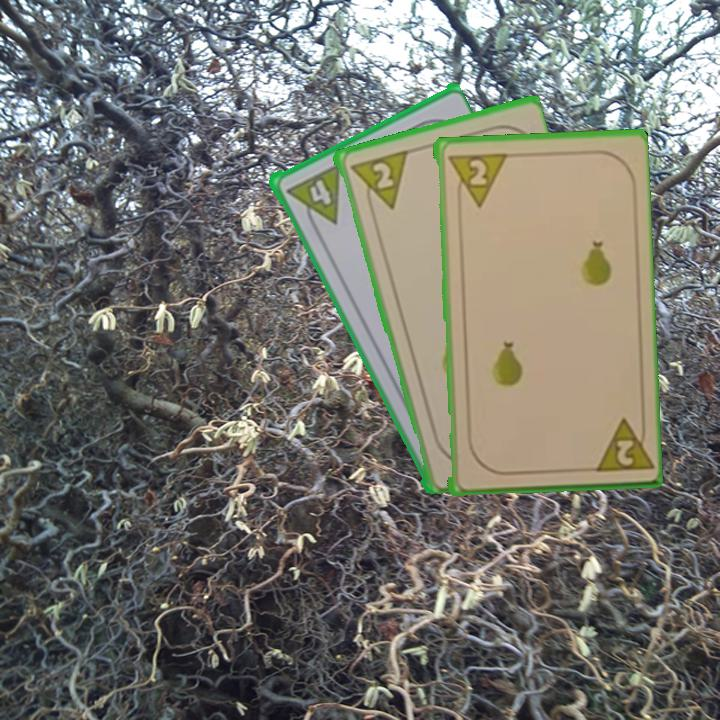2p: (346, 146, 409, 217), (587, 413, 652, 475), (443, 149, 507, 210)
4p: (301, 164, 343, 224)
